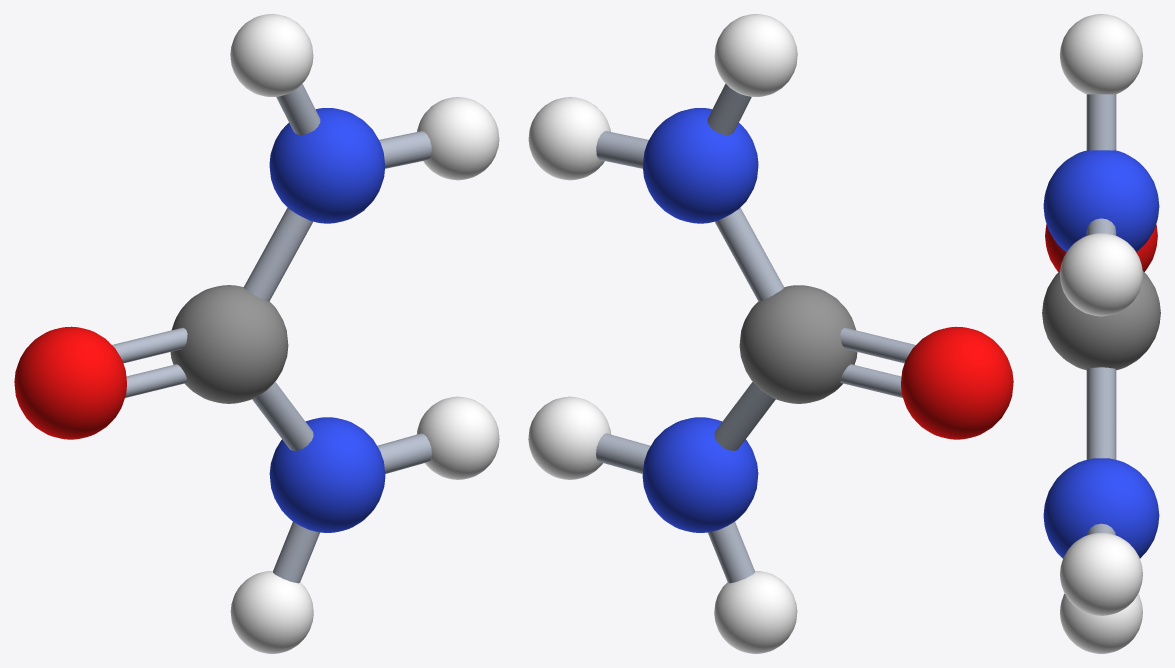
Rendered from urea.glb.
3 renders of one model, left to right at view 1: azimuth 30°, elevation 25°; view 2: azimuth 150°, elevation 25°; view 3: azimuth 270°, elevation 25°, orthographic.
Visible parts, largest first — view 1: H (×4), N (×2), bond (×8), C, O; view 2: H (×4), N (×2), bond (×8), C, O; view 3: H (×4), N (×2), C, bond (×4), O.
Part boxes in pixels (<box>): H (×4): <box>230,14,499,653</box>; N (×2): <box>269,108,385,532</box>; bond (×8): <box>112,83,431,583</box>; C: <box>170,285,288,403</box>; O: <box>14,326,126,439</box>; H (×4): <box>528,14,797,653</box>; N (×2): <box>642,108,758,532</box>; bond (×8): <box>596,83,915,583</box>; C: <box>739,285,857,403</box>; O: <box>901,326,1013,439</box>; H (×4): <box>1060,14,1142,653</box>; N (×2): <box>1043,150,1159,558</box>; C: <box>1042,271,1160,370</box>; bond (×4): <box>1086,94,1116,535</box>; O: <box>1045,224,1157,271</box>.
Size of the model in its own units: 0.1719 by 0.22 by 0.0375.
